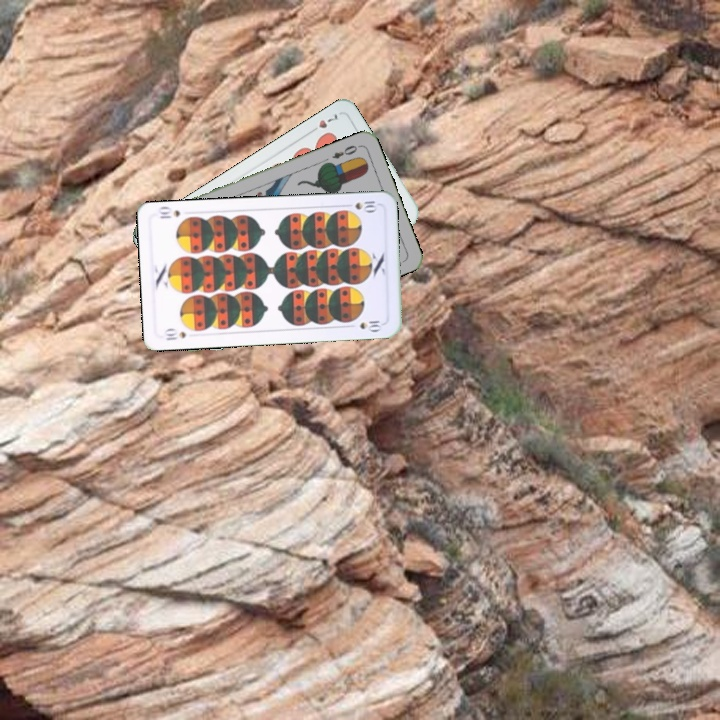EO: (328, 141, 363, 161)
H7: (305, 109, 342, 136)
S10: (340, 196, 381, 214), (160, 325, 189, 343)
